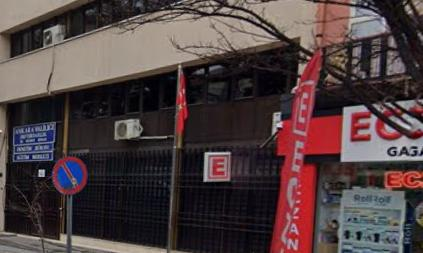nopark: (52, 157, 88, 195)
